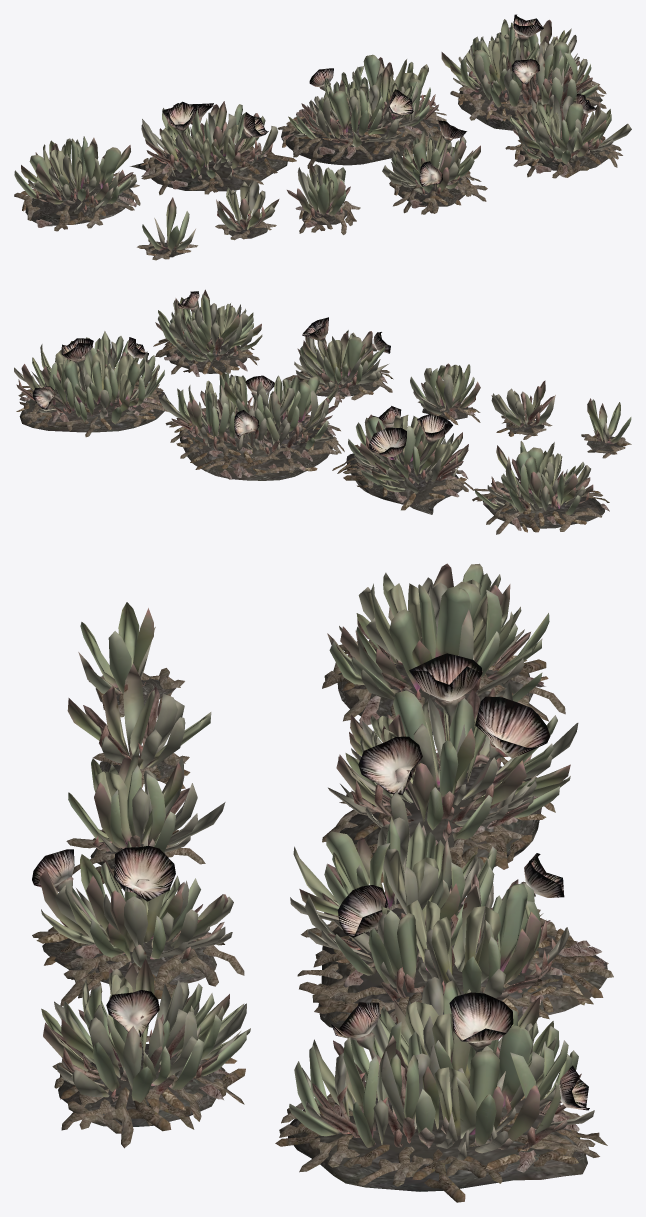
Rendered from cheiridopsis_succulent.glb.
3 views of the same model, one above another, from view 1: azimuth 30°, elevation 25°; view 2: azimuth 150°, elevation 25°; view 3: azimuth 270°, elevation 25° (orthographic). The views are drawn at different scales.
Parts seen in each view (by area): view 1: cheiridopsis_succulent_a_LOD0, cheiridopsis_succulent_d_LOD0; view 2: cheiridopsis_succulent_a_LOD0, cheiridopsis_succulent_d_LOD0; view 3: cheiridopsis_succulent_a_LOD0, cheiridopsis_succulent_d_LOD0.
Boxes of the visible parts, x1,y1,x2,y2 form: cheiridopsis_succulent_a_LOD0: [14, 19, 631, 260]; cheiridopsis_succulent_d_LOD0: [162, 14, 596, 186]; cheiridopsis_succulent_a_LOD0: [14, 289, 631, 534]; cheiridopsis_succulent_d_LOD0: [33, 291, 452, 457]; cheiridopsis_succulent_a_LOD0: [32, 563, 613, 1202]; cheiridopsis_succulent_d_LOD0: [32, 653, 589, 1110].
Size of the model in its own units: 2.16 by 0.2708 by 0.9587.
2 materials, 2 textured.
